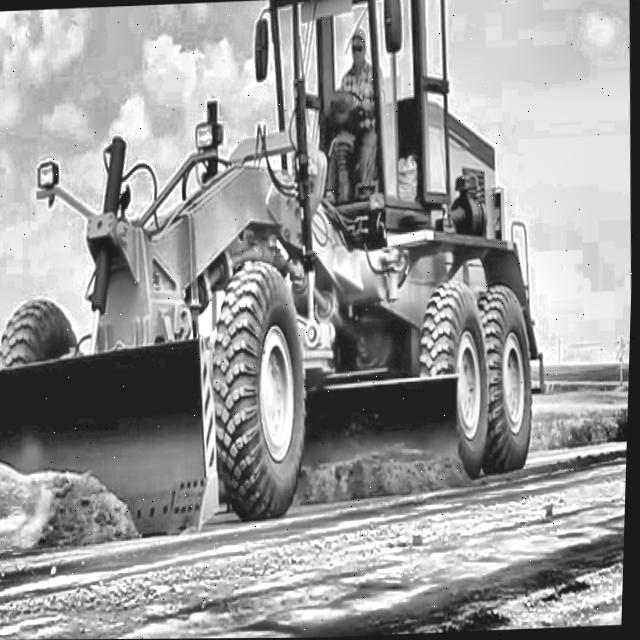buldozerpayloadergrader: (0, 0, 549, 544)
